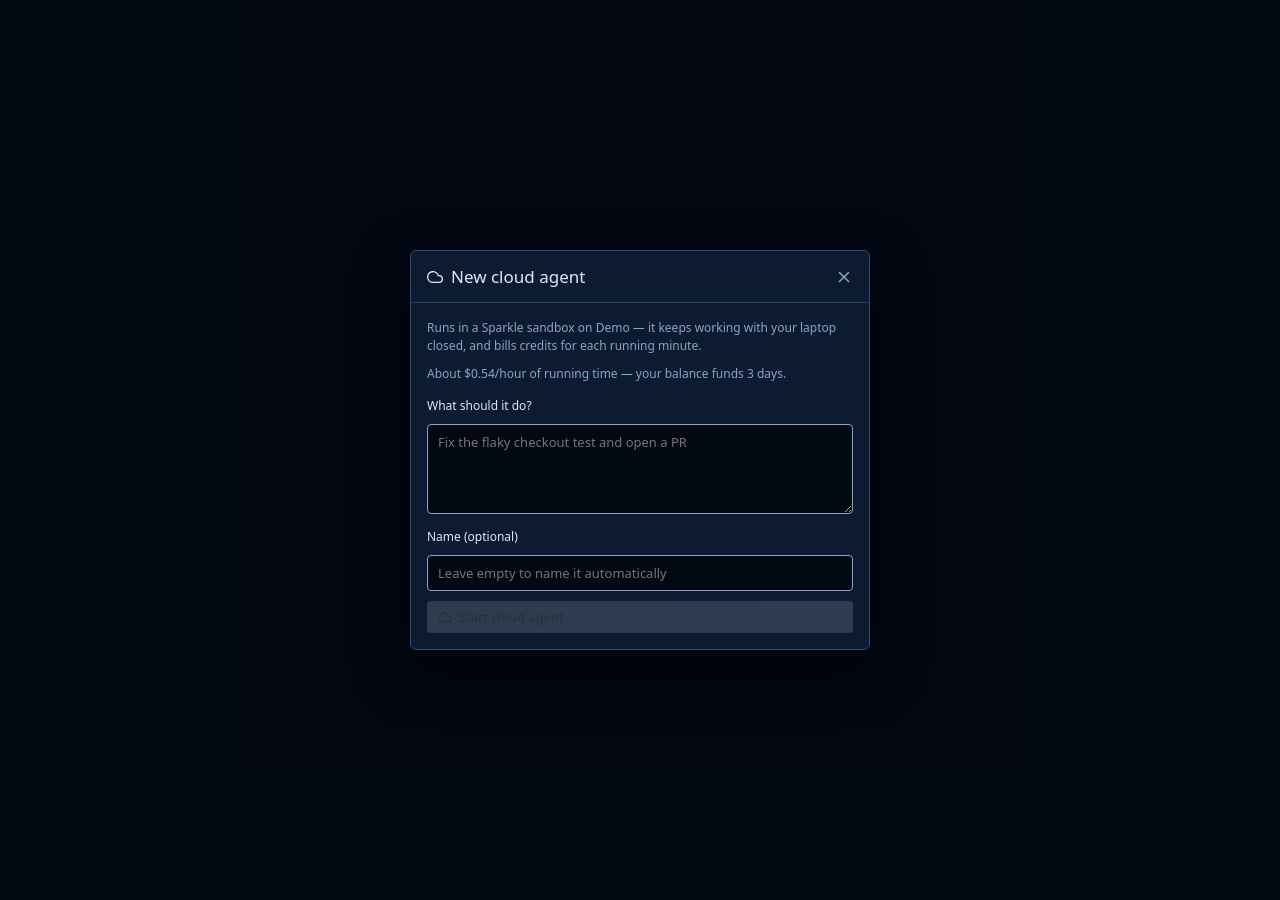
Test: NewCloudAgentDialog — start › refuses to start when the project's repo can't be resolved — and starts nothing
The image size is (1280, 900).
Type "do the thing" into the text box with test id "cloud-goal" at (640, 469), box [427,424,853,514]
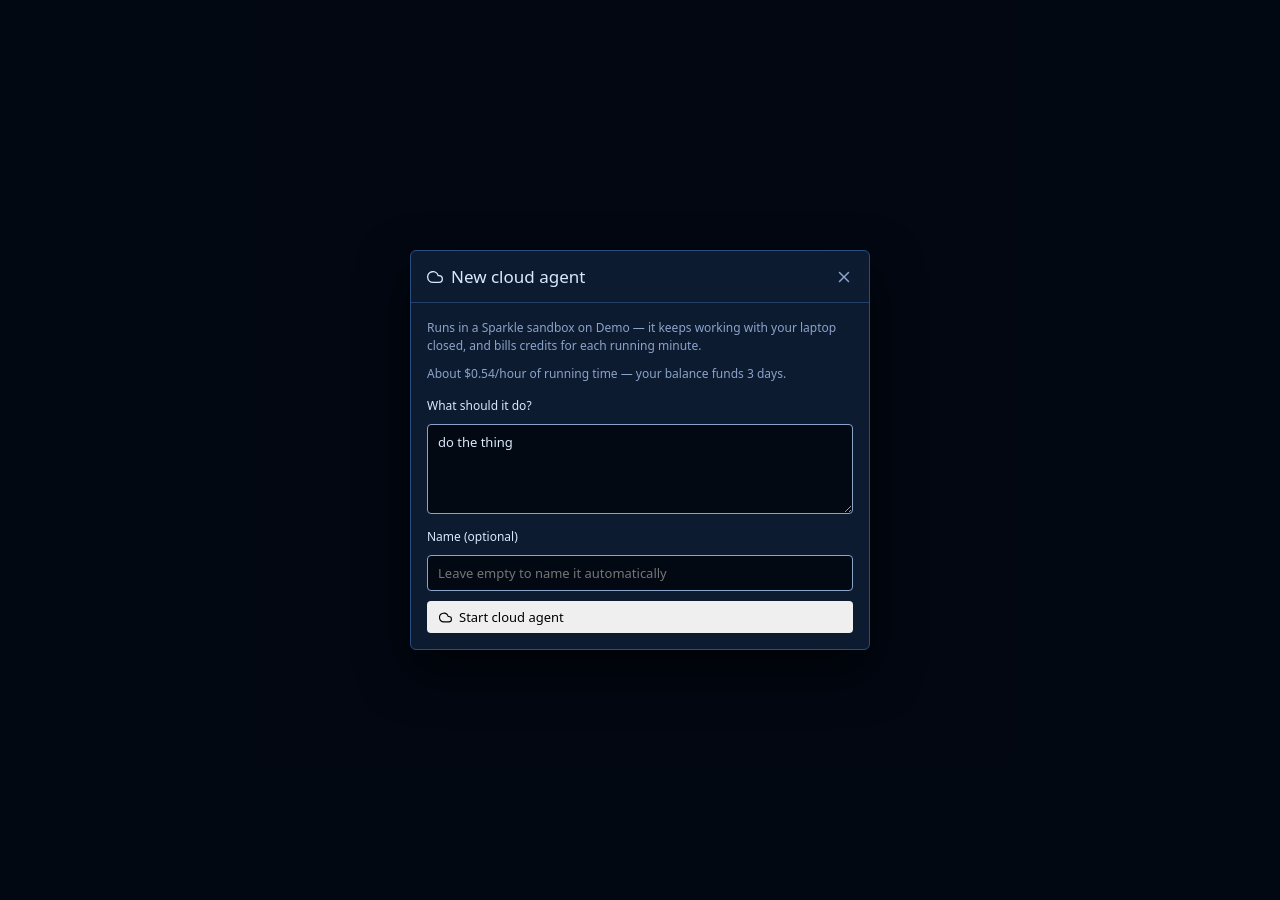
Click the button "Start cloud agent" at (511, 617), box [427,601,853,633]
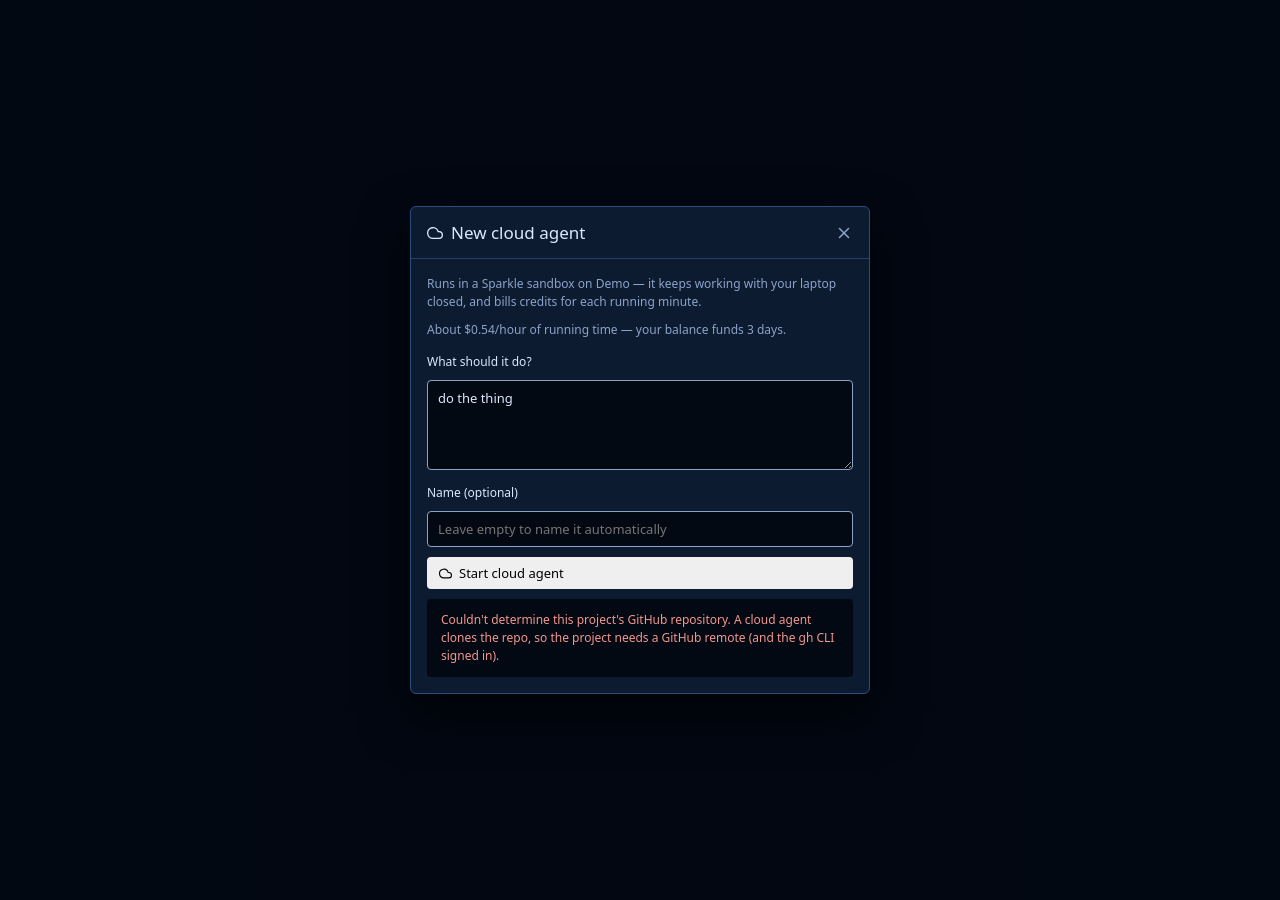
Now the element with test id "cloud-start-error" shows "GitHub repository", box [441,611,834,664]
